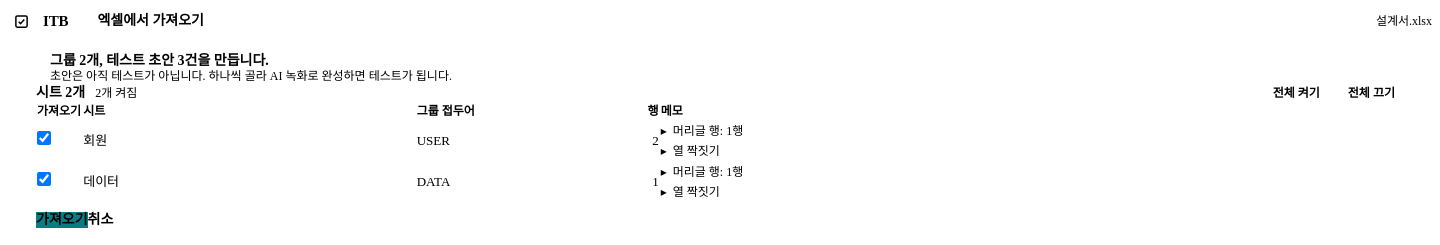
Scenario: 시트 고르기 › 끄면 만들 초안 수가 준다
Check: the text "그룹 2개, 테스트 초안 3건을 만듭니다." is shown, box [50,53,269,68]
Click the checkbox named "데이터 가져오기" at (44, 179), box [37,172,51,186]
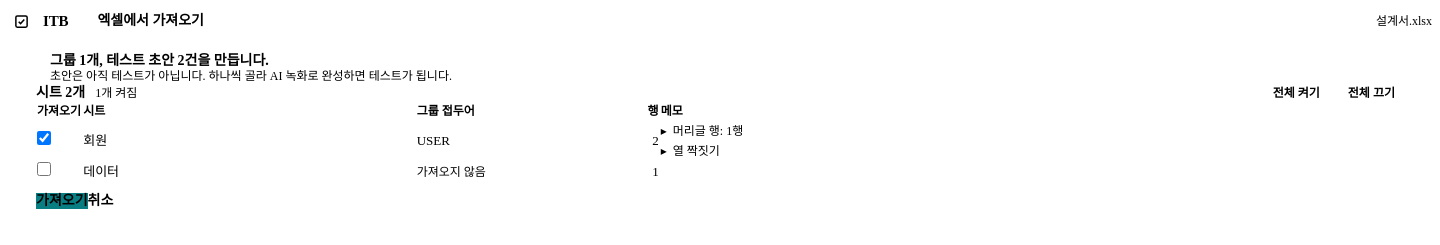
Check: the text "그룹 1개, 테스트 초안 2건을 만듭니다." is shown, box [50,53,269,68]
